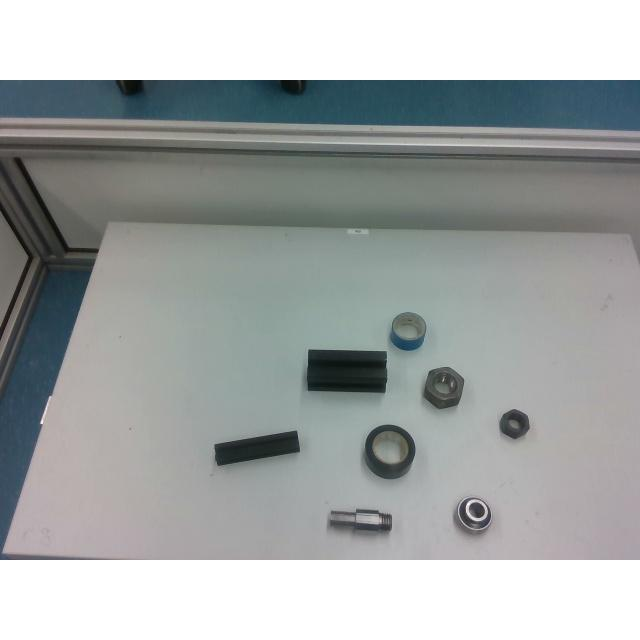Axis2: (328, 508, 392, 532)
Bearing2: (454, 496, 491, 530)
F20_20_B: (214, 430, 298, 464)
M20: (499, 408, 529, 437)
M30: (422, 366, 462, 406)
S40_40_B: (306, 348, 386, 392)
